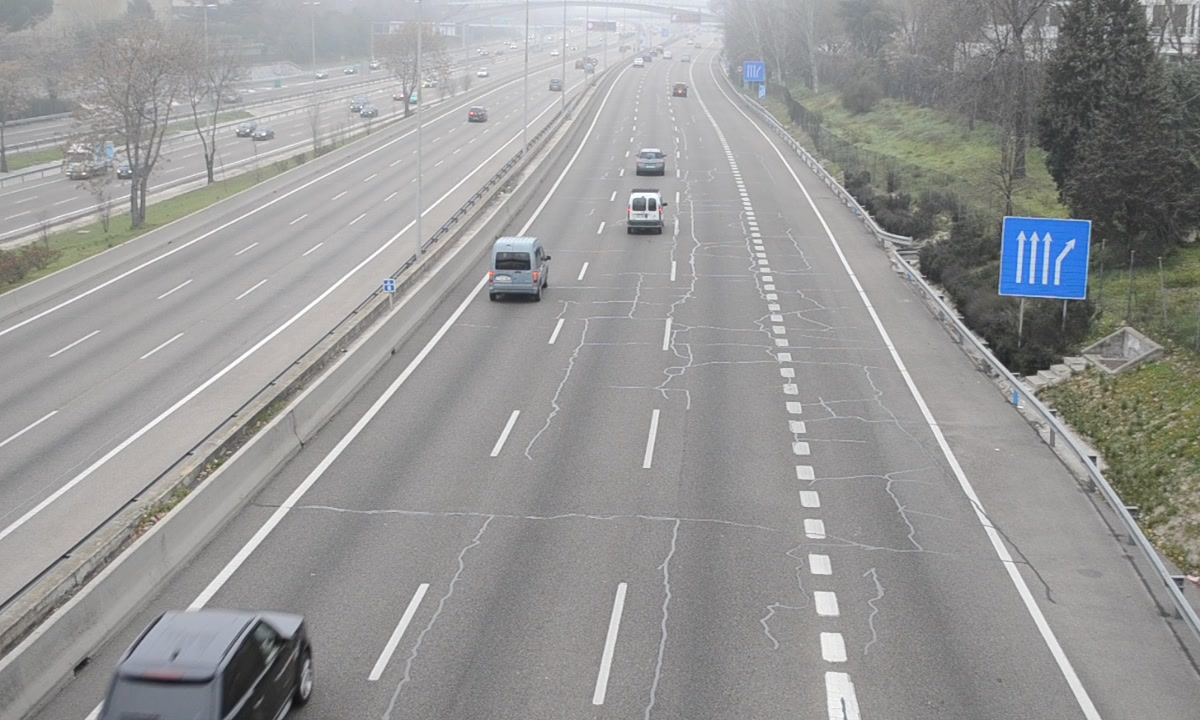car: (97, 610, 312, 720), (635, 148, 666, 176)
van: (488, 237, 549, 299), (627, 187, 662, 236)
